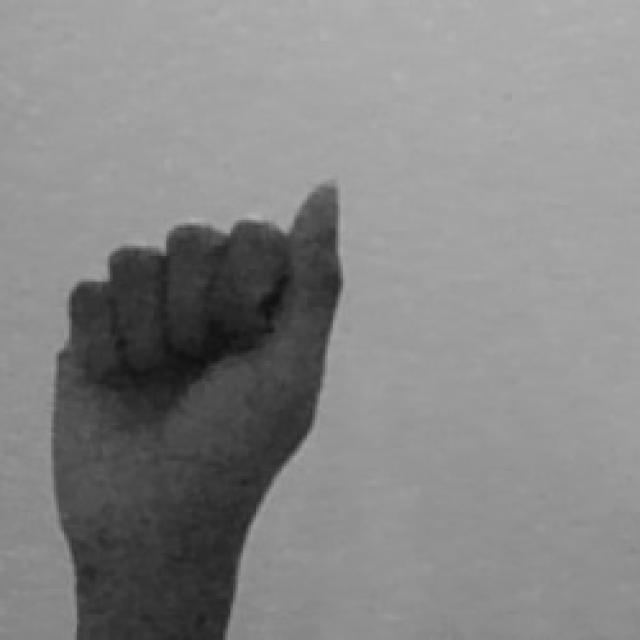A: (46, 174, 353, 640)
